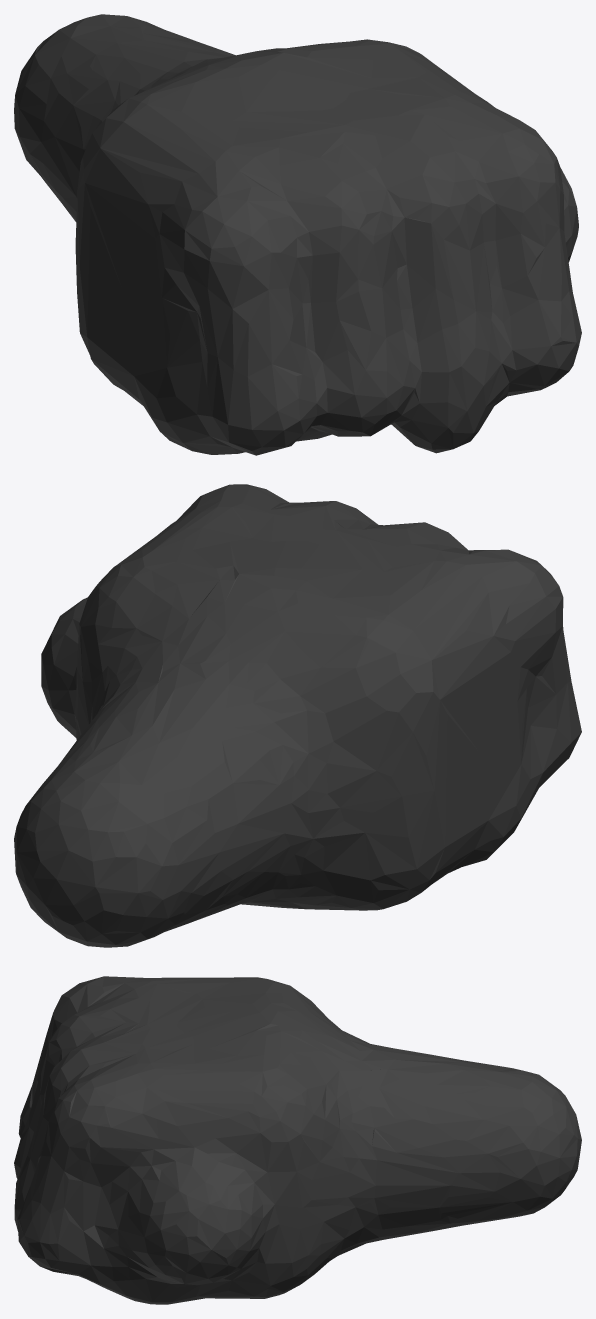
The model's file is fist_core.glb.
3 renders of one model, top to bottom at view 1: azimuth 30°, elevation 25°; view 2: azimuth 150°, elevation 25°; view 3: azimuth 270°, elevation 25°, orthographic. The views are drawn at different scales.
Parts seen in each view (by area): view 1: geometry_0; view 2: geometry_0; view 3: geometry_0.
Part boxes in pixels (left/top/right/bottom): geometry_0: left=14, top=14, right=581, bottom=455; geometry_0: left=14, top=484, right=581, bottom=947; geometry_0: left=14, top=976, right=581, bottom=1304.
Size of the model in its own units: 1.39 by 0.953 by 1.97.
1 material, 1 textured.
